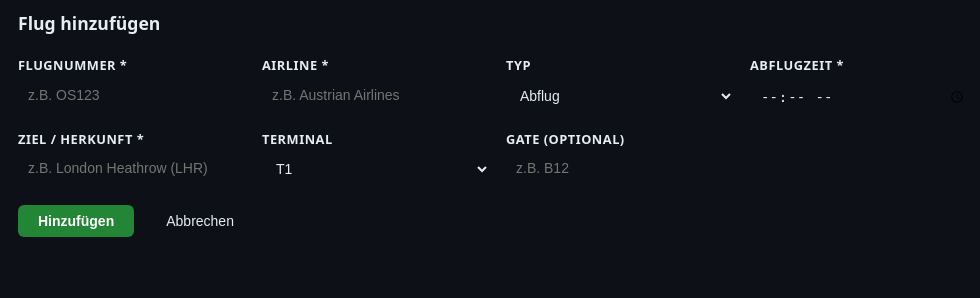
Test: zeigt Fehler und ruft onAdd nicht auf, wenn Pflichtfelder fehlen
The image size is (980, 298).
Click the button "Hinzufügen" at coordinates (76, 222), box x1=18 y1=206 x2=134 y2=238
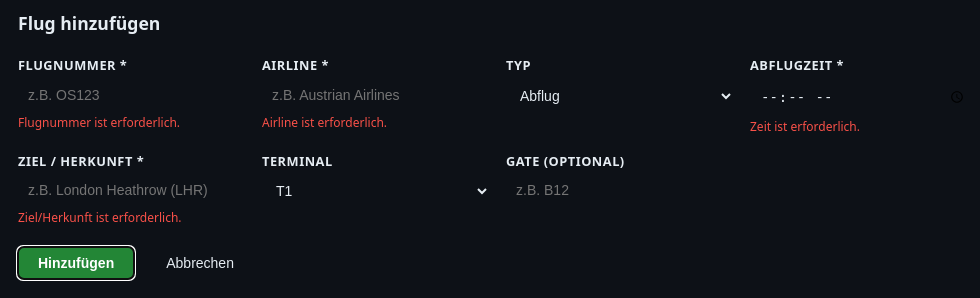
Result: the text "Flugnummer ist erforderlich." is shown at x1=18 y1=114 x2=180 y2=131
